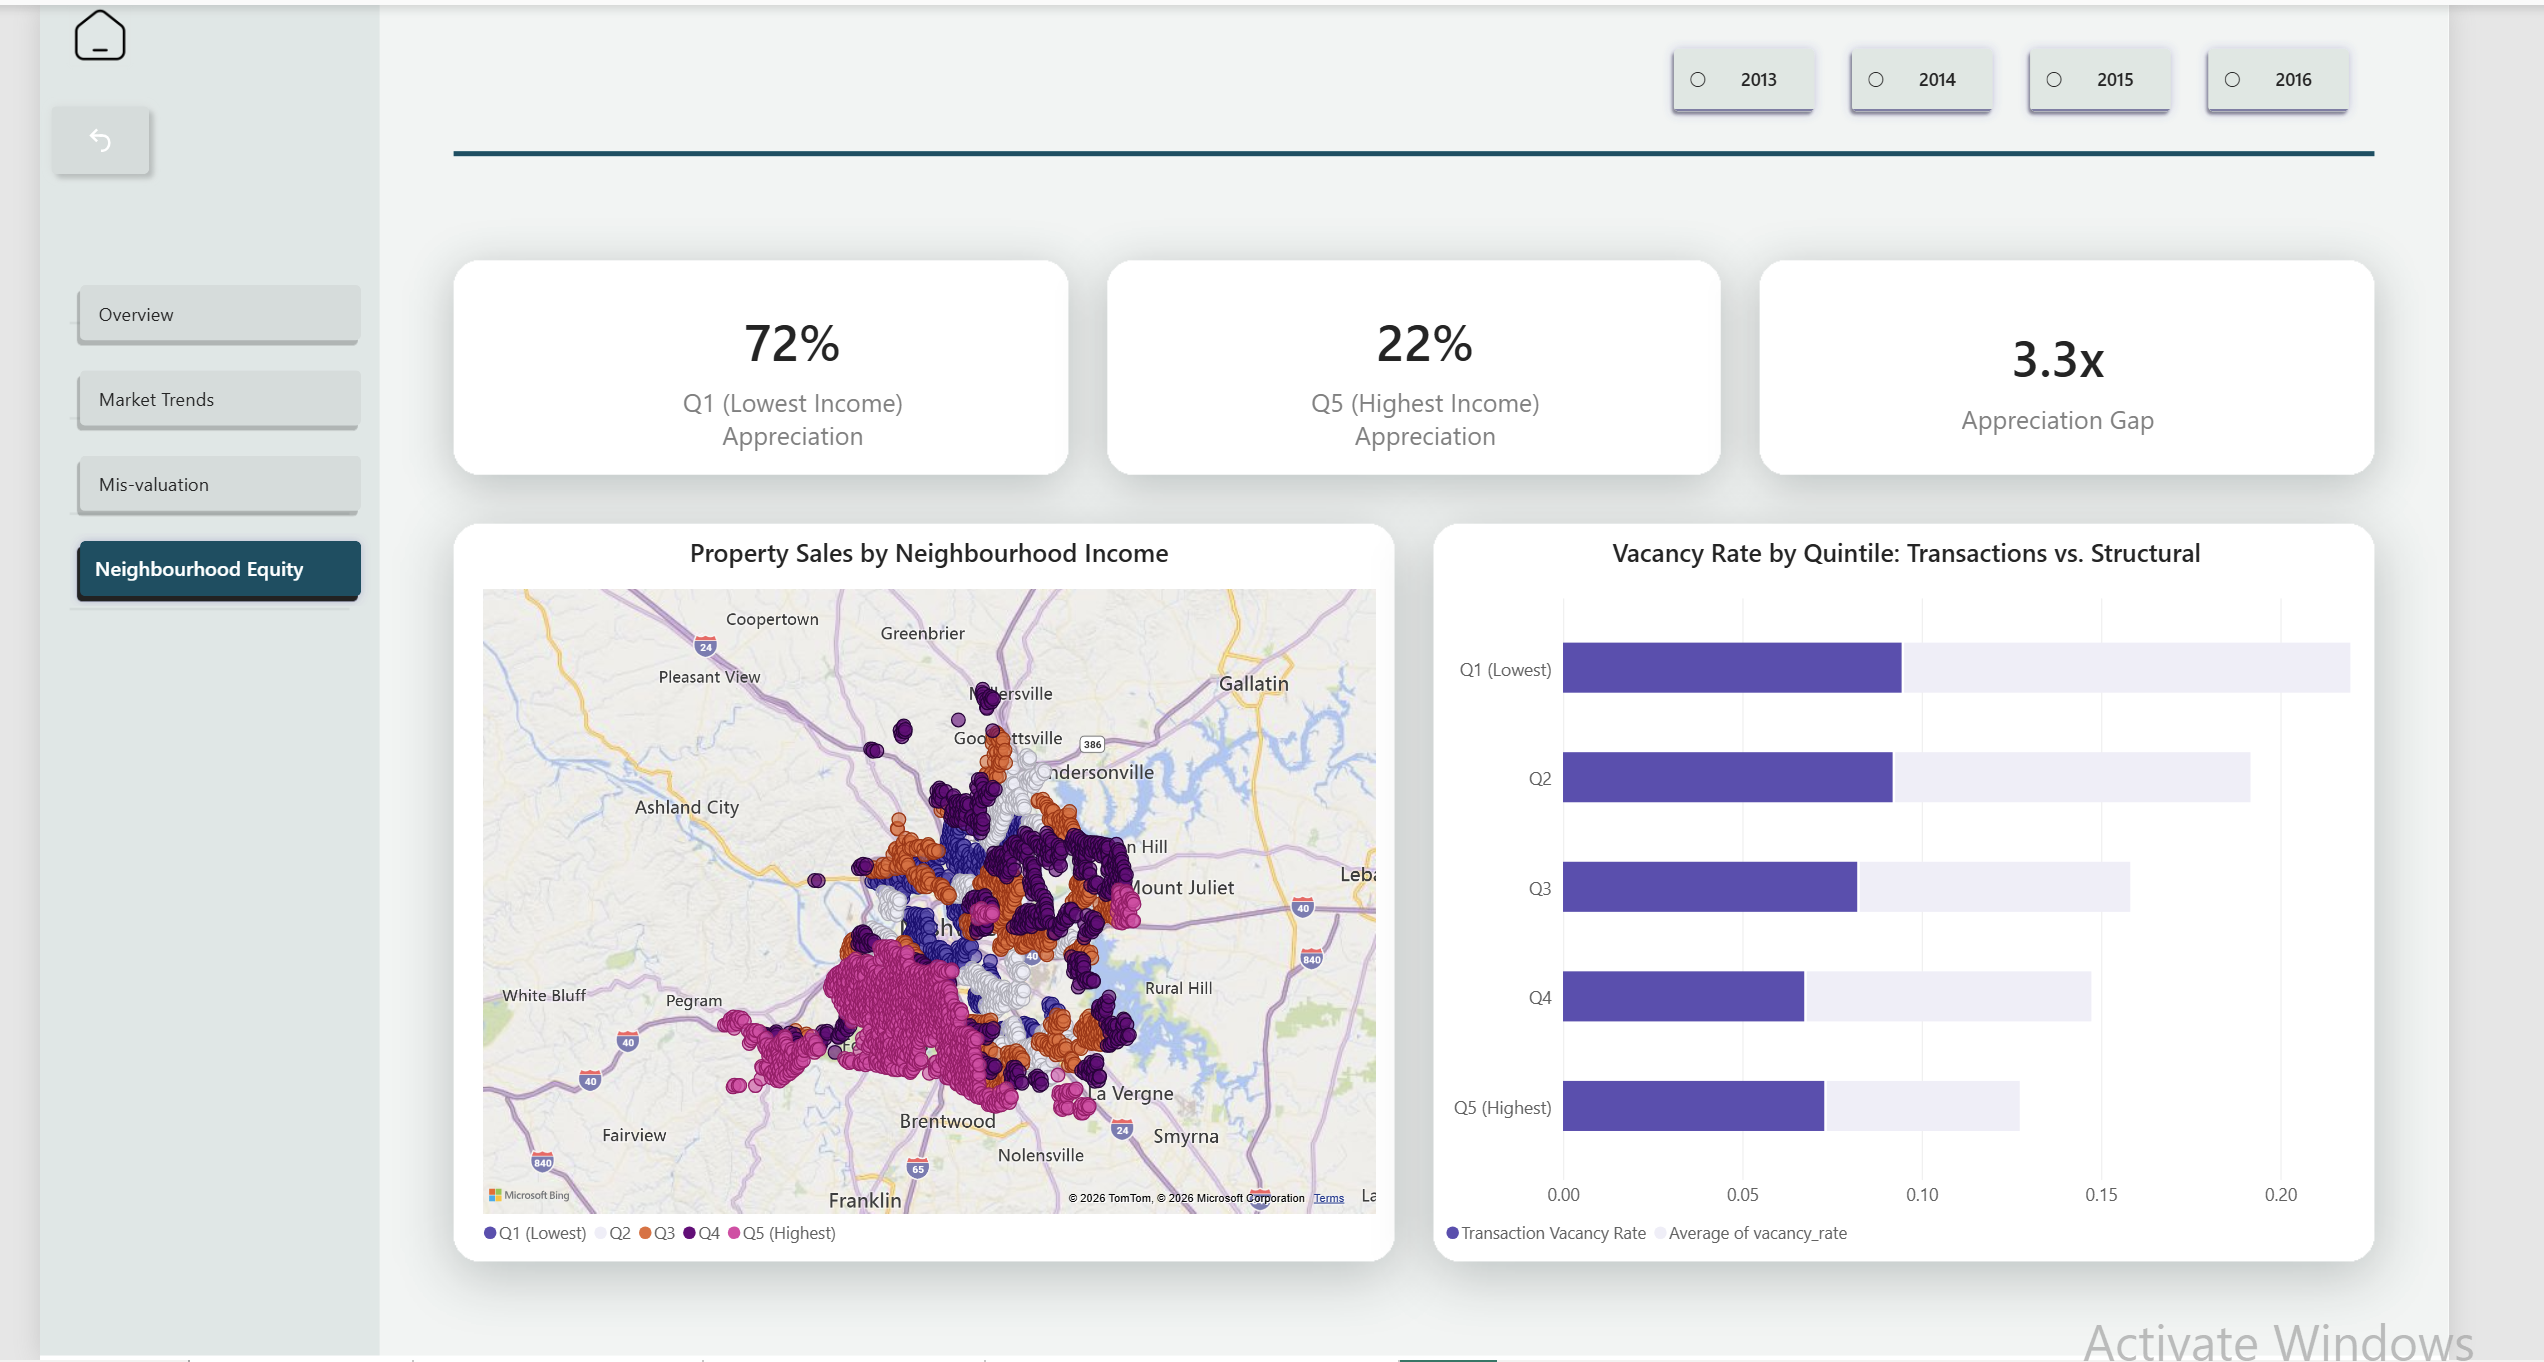

Layout of this report page (visuals, bound fields, positions):
{"tool":"powerbi","page":{"name":"Neighbourhood Equity","canvas":[1920,1080],"ordinal":3},"visuals":[{"type":"cardVisual","fields":{"Data":["neighbourhood_equity.Q Appreciation %"]},"box":[984,216,240,168],"z":0},{"type":"map","title":"Property Sales by Neighbourhood Income","fields":{"Series":["neighbourhood_equity.income_quintile"],"X":["neighbourhood_equity.longitude"],"Y":["neighbourhood_equity.latitude"]},"box":[336,408,744,600],"z":1000},{"type":"cardVisual","fields":{"Data":["neighbourhood_equity.Q Appreciation %"]},"box":[480,216,240,168],"z":2000},{"type":"barChart","title":"Vacancy Rate by Quintile: Transactions vs. Structural","fields":{"Category":["neighbourhood_equity.income_quintile"],"Y":["neighbourhood_equity.Transaction Vacancy Rate","Avg(neighbourhood_equity.vacancy_rate)"]},"box":[1104,408,768,600],"z":3000},{"type":"cardVisual","fields":{"Data":["neighbourhood_equity.Appreciation Gap Label"]},"box":[1488,216,240,168],"z":4000},{"type":"image","title":"Logo","box":[24,0,48,48],"z":5000},{"type":"pageNavigator","title":"Menu Buttons","box":[24,216,240,264],"z":6000},{"type":"advancedSlicerVisual","fields":{"Values":["overview_trends.sale_year"]},"box":[1272,24,600,72],"z":6001},{"type":"actionButton","box":[0,72,96,72],"z":6002}]}

Visuals, with their boxes on the page's 1920x1080 design canvas (x1, y1, x2, y2). These are canvas units, not pixel positions in the 2544x1362 screenshot, which may show the page scaled, cropped or inside an application window:
cardVisual - neighbourhood_equity.Q Appreciation %: box(984, 216, 1224, 384)
"Property Sales by Neighbourhood Income" map: box(336, 408, 1080, 1008)
cardVisual - neighbourhood_equity.Q Appreciation %: box(480, 216, 720, 384)
"Vacancy Rate by Quintile: Transactions vs. Structural" barChart: box(1104, 408, 1872, 1008)
cardVisual - neighbourhood_equity.Appreciation Gap Label: box(1488, 216, 1728, 384)
"Logo" image: box(24, 0, 72, 48)
"Menu Buttons" pageNavigator: box(24, 216, 264, 480)
advancedSlicerVisual - overview_trends.sale_year: box(1272, 24, 1872, 96)
actionButton: box(0, 72, 96, 144)
